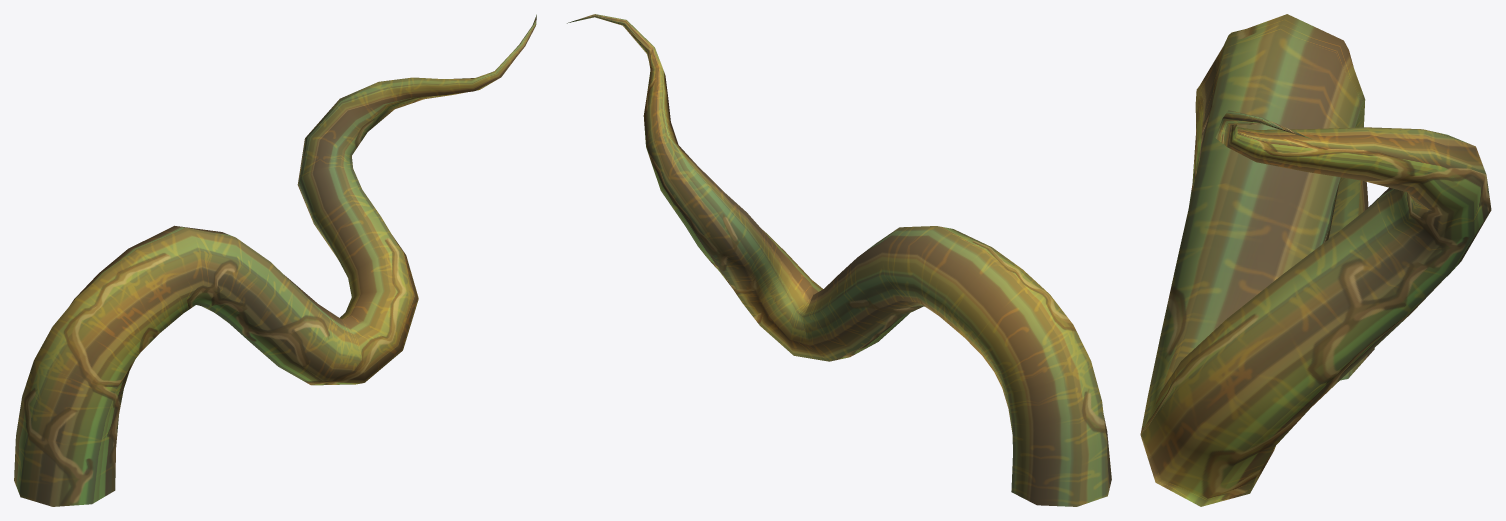
Rendered from vine_01_v01.fbx.
3 renders of one model, left to right at view 1: azimuth 30°, elevation 25°; view 2: azimuth 150°, elevation 25°; view 3: azimuth 270°, elevation 25°, orthographic. The views are drawn at different scales.
Visible parts, largest first — view 1: vine_01_v01; view 2: vine_01_v01; view 3: vine_01_v01.
Part boxes in pixels (x1,y1,x2,y2): vine_01_v01: [14, 14, 536, 506]; vine_01_v01: [567, 14, 1111, 506]; vine_01_v01: [1140, 14, 1491, 506].
Size of the model in its own units: 146 by 93.13 by 44.76.
